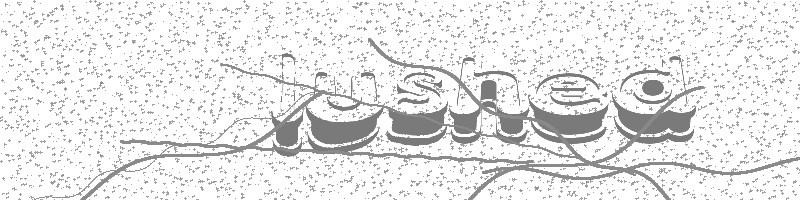d: (610, 53, 699, 145)
e: (528, 72, 609, 144)
h: (449, 56, 531, 144)
l: (268, 53, 307, 157)
s: (387, 69, 447, 146)
u: (304, 69, 384, 156)
